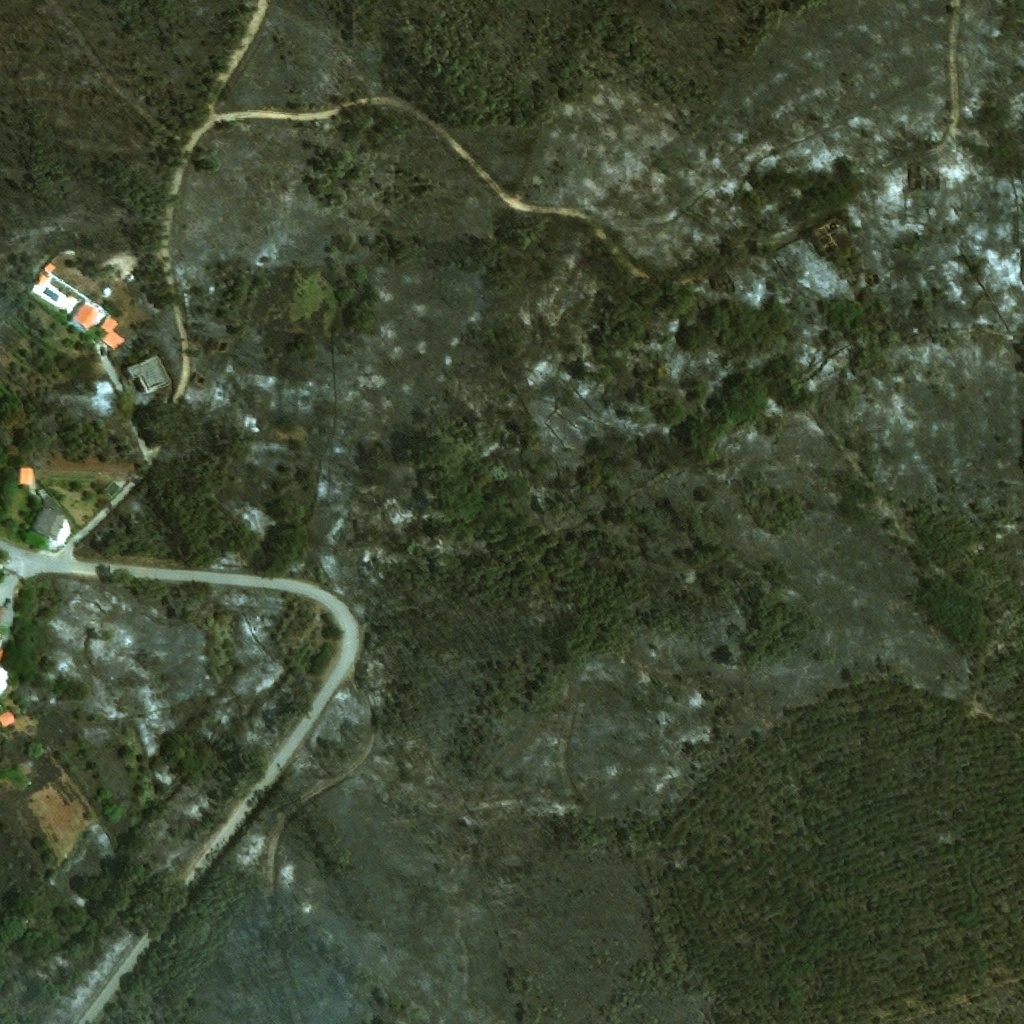0 no-damage: (124, 356, 172, 393), (32, 489, 65, 540), (99, 316, 126, 350), (72, 301, 102, 331), (0, 604, 20, 630), (17, 468, 34, 486), (0, 665, 10, 693), (0, 711, 14, 729), (43, 262, 57, 275), (38, 275, 45, 284), (0, 648, 4, 662)
3 destroyed: (191, 373, 208, 388)
